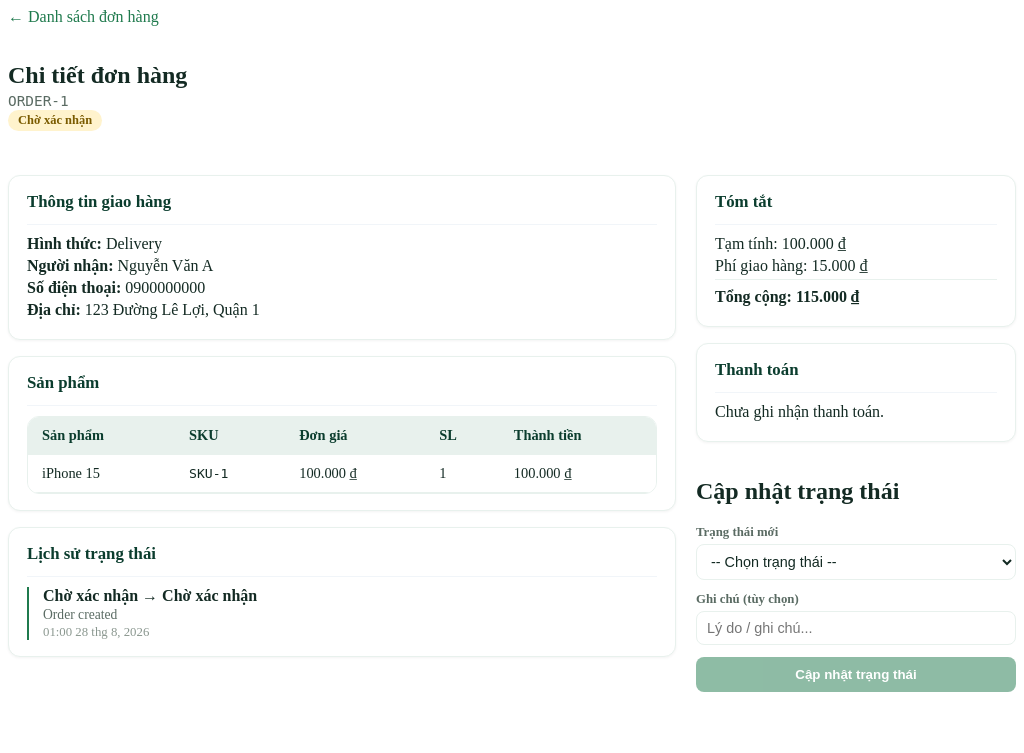
Scenario: AdminOrderDetailPage › warns before cancelling an order
Step 1. Select "Đã hủy" in the dropdown labelled "Trạng thái mới" → (856,562), box x1=696 y1=544 x2=1016 y2=580
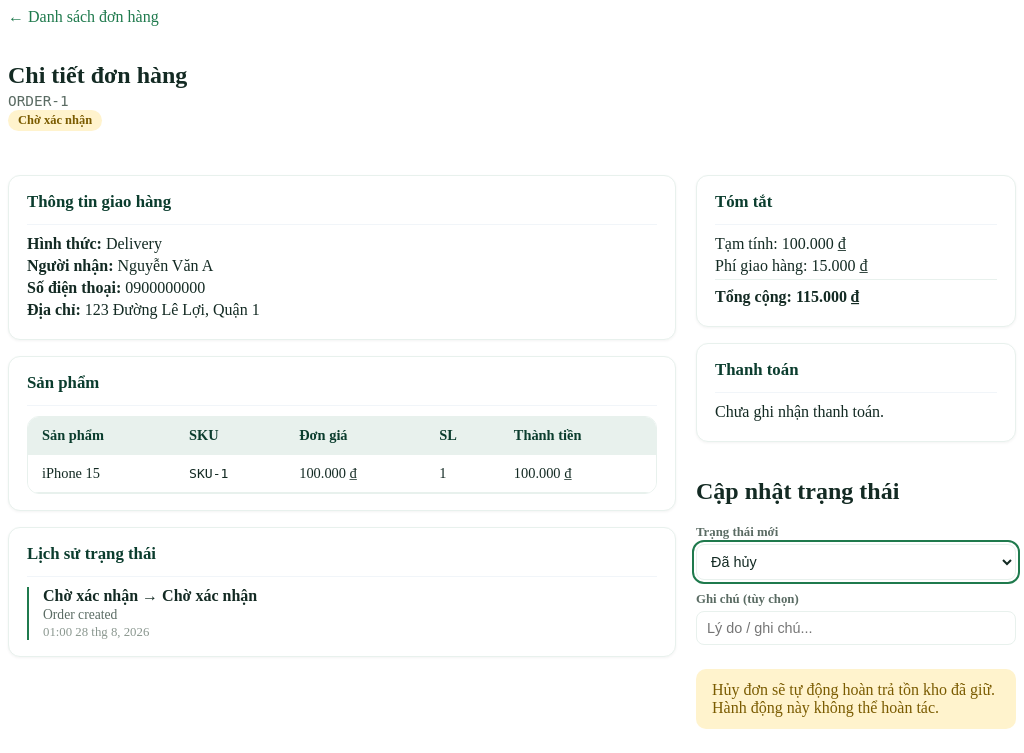
expect the text "Hủy đơn sẽ tự động hoàn trả tồn kho đã giữ. Hành động này không thể hoàn tác." is shown: met, box x1=696 y1=669 x2=1016 y2=729
